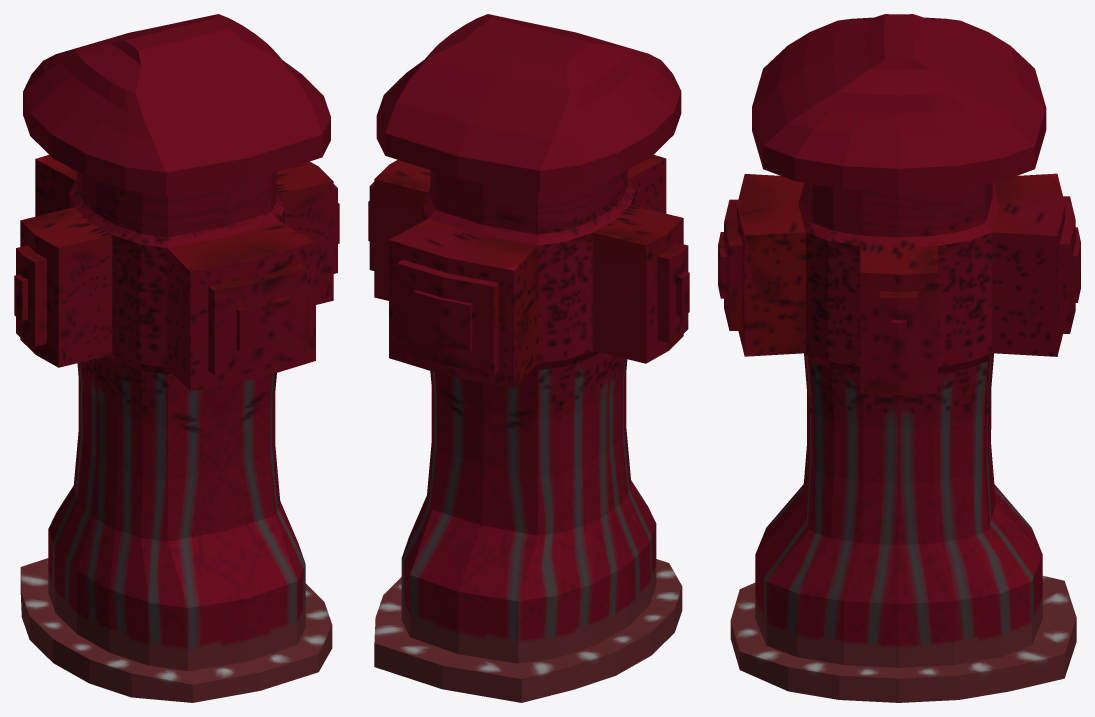
Rendered from HidranteAsset.fbx.
3 views of the same model, side by side, from view 1: azimuth 30°, elevation 25°; view 2: azimuth 150°, elevation 25°; view 3: azimuth 270°, elevation 25° (orthographic). The views are drawn at different scales.
Parts seen in each view (by area): view 1: Hidrante; view 2: Hidrante; view 3: Hidrante.
Boxes of the visible parts, left/top/right/bottom form: Hidrante: left=14, top=14, right=339, bottom=702; Hidrante: left=368, top=14, right=689, bottom=702; Hidrante: left=718, top=14, right=1080, bottom=702.
Bounding box in the file's own units: 35.57 × 63.76 × 34.63.
